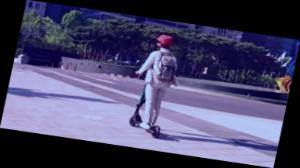helmet: (122, 30, 188, 143)
